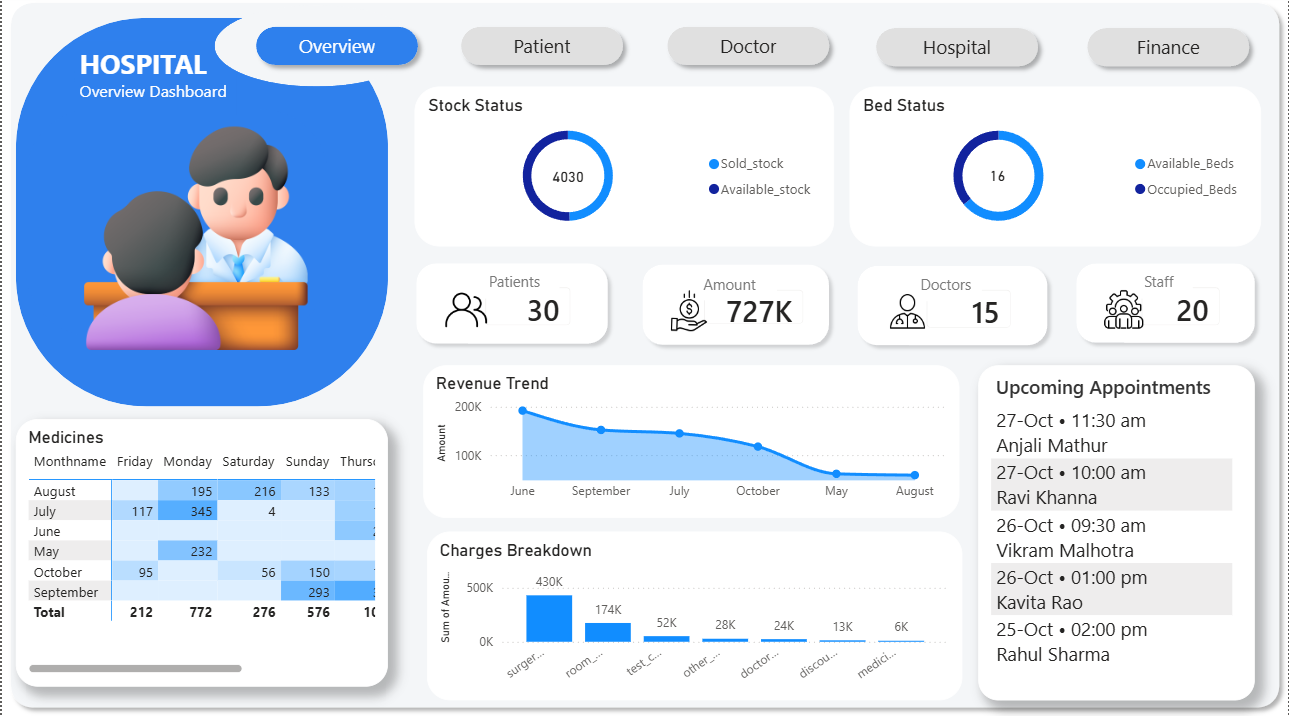

This screenshot's page, from the dashboard's own definition file:
{"tool":"powerbi","page":{"name":"Overview","canvas":[1280,720],"ordinal":1},"visuals":[{"type":"shape","box":[0,0,1280,719],"z":0},{"type":"shape","title":"kpi_bg_temp","box":[404.3,260,206.5,95.8],"z":0,"group":"g1"},{"type":"shape","title":"kpi_bg_temp","box":[1061.1,260,193.7,95],"z":0,"group":"g4"},{"type":"shape","title":"kpi_bg_temp","box":[629.4,261.2,201.5,95.8],"z":0,"group":"g2"},{"type":"shape","title":"kpi_bg_temp","box":[843.4,262.5,204.8,95],"z":0,"group":"g3"},{"type":"cardVisual","fields":{"Data":["Measure Calculation.Staff"]},"box":[1117.3,274.9,112.4,72.1],"z":1000,"group":"g4"},{"type":"cardVisual","fields":{"Data":["Measure Calculation.Patients"]},"box":[464.2,275.1,119.9,72.7],"z":1000,"group":"g1"},{"type":"cardVisual","fields":{"Data":["Measure Calculation.Amount"]},"box":[681.7,277.1,133.1,68.4],"z":1000,"group":"g2"},{"type":"cardVisual","fields":{"Data":["Measure Calculation.Doctors"]},"box":[902.9,277.4,118.9,72.1],"z":1000,"group":"g3"},{"type":"lineChart","title":"Revenue Trend","fields":{"Category":["Calendar_Table.Monthname"],"Y":["Measure Calculation.Amount"]},"box":[419.2,369.5,533.7,151.8],"z":1000},{"type":"textbox","box":[464.9,271.2,89.6,32.3],"z":2000,"group":"g1"},{"type":"textbox","box":[1117.3,271.2,68.3,32.3],"z":2000,"group":"g4"},{"type":"textbox","box":[902.9,273.7,72.2,32.3],"z":2000,"group":"g3"},{"type":"textbox","box":[693.1,273.8,78.2,31.1],"z":2000,"group":"g2"},{"type":"pivotTable","title":"Medicines","fields":{"Rows":["Calendar_Table.Monthname"],"Columns":["Calendar_Table.Dayname"],"Values":["Sum(medicine patients.qty)"]},"box":[13.7,422.9,370.7,266.2],"z":2000},{"type":"image","box":[1074.5,293.6,83,41.1],"z":3000,"group":"g4"},{"type":"image","box":[418.6,293.9,88.5,41.4],"z":3000,"group":"g1"},{"type":"image","box":[642.7,295.3,80.7,40.9],"z":3000,"group":"g2"},{"type":"image","box":[857.6,296.1,87.8,41.1],"z":3000,"group":"g3"},{"type":"columnChart","title":"Charges Breakdown","fields":{"Category":["Hospital Bills.Charges Type"],"Y":["Sum(Hospital Bills.Amount)"]},"box":[422.9,534.9,532.4,167.9],"z":3000},{"type":"donutChart","title":"Stock Status","fields":{"Y":["Measure Calculation.Sold_stock_quantity","Measure Calculation.Left_stock_quantity"]},"box":[410.5,92.1,418,159.2],"z":4000},{"type":"donutChart","title":"Bed Status","fields":{"Y":["Measure Calculation.Available_Beds","Measure Calculation.Occupied_Beds"]},"box":[843.4,92.1,409.3,159.2],"z":5000},{"type":"card","fields":{"Values":["Measure Calculation.Available_stock"]},"box":[537.4,163,52.2,39.8],"z":6000},{"type":"card","fields":{"Values":["Measure Calculation.Available_Beds"]},"box":[971.5,163,38.6,38.6],"z":7000},{"type":"shape","title":"Blue_base","box":[13.7,23.6,370.7,386.9],"z":8000},{"type":"shape","box":[23.6,114.4,301,226.4],"z":9000},{"type":"shape","box":[211.5,11.2,202.8,80.9],"z":10000},{"type":"textbox","box":[72.1,46,139.3,53.5],"z":11000},{"type":"textbox","box":[72.1,79.6,160.5,41.1],"z":12000},{"type":"shape","box":[243.8,23.6,179.1,56],"z":13000},{"type":"shape","box":[447.8,23.6,179.1,56],"z":14000},{"type":"shape","box":[653.1,23.6,179.1,56],"z":15000},{"type":"shape","box":[860.8,24.9,179.1,56],"z":16000},{"type":"shape","box":[1071,24.9,179.1,56],"z":17000},{"type":"image","box":[72.1,131.9,241.3,222.7],"z":18000},{"type":"group","id":"g1","title":"kpi_patients","box":[404.3,260,206.5,95.8],"z":19000},{"type":"group","id":"g2","title":"kpi_patients","box":[629.4,261.2,201.5,95.8],"z":20000},{"type":"group","id":"g3","title":"kpi_patients","box":[843.4,262.5,205.3,94.5],"z":21000},{"type":"group","id":"g4","title":"kpi_patients","box":[1061.1,260,194.1,94.5],"z":22000},{"type":"tableEx","fields":{"Values":["Appointment.Appointment Card Text"]},"box":[971.5,369.5,274.9,333.4],"z":25000},{"type":"textbox","box":[984,373.2,250,37.3],"z":25500}]}

Visuals, with their boxes in screenshot pixels (x1, y1, x2, y2), scaled from the page's 1280x720 canvas onto the 1289x716 screenshot:
shape: 0 0 1288 715
"kpi_bg_temp" shape: 407 259 615 354
"kpi_bg_temp" shape: 1069 259 1264 353
"kpi_bg_temp" shape: 634 260 837 355
"kpi_bg_temp" shape: 849 261 1056 356
cardVisual - Measure Calculation.Staff: 1125 273 1238 345
cardVisual - Measure Calculation.Patients: 467 274 588 346
cardVisual - Measure Calculation.Amount: 686 276 821 344
cardVisual - Measure Calculation.Doctors: 909 276 1029 348
"Revenue Trend" lineChart: 422 367 960 518
textbox: 468 270 558 302
textbox: 1125 270 1194 302
textbox: 909 272 982 304
textbox: 698 272 777 303
"Medicines" pivotTable: 14 421 387 685
image: 1082 292 1166 333
image: 422 292 511 333
image: 647 294 728 334
image: 864 294 952 335
"Charges Breakdown" columnChart: 426 532 962 699
"Stock Status" donutChart: 413 92 834 250
"Bed Status" donutChart: 849 92 1262 250
card - Measure Calculation.Available_stock: 541 162 594 202
card - Measure Calculation.Available_Beds: 978 162 1017 200
"Blue_base" shape: 14 23 387 408
shape: 24 114 327 339
shape: 213 11 417 92
textbox: 73 46 213 99
textbox: 73 79 234 120
shape: 246 23 426 79
shape: 451 23 631 79
shape: 658 23 838 79
shape: 867 25 1047 80
shape: 1079 25 1259 80
image: 73 131 316 353
"kpi_patients" group: 407 259 615 354
"kpi_patients" group: 634 260 837 355
"kpi_patients" group: 849 261 1056 355
"kpi_patients" group: 1069 259 1264 353
tableEx - Appointment.Appointment Card Text: 978 367 1255 699
textbox: 991 371 1243 408
